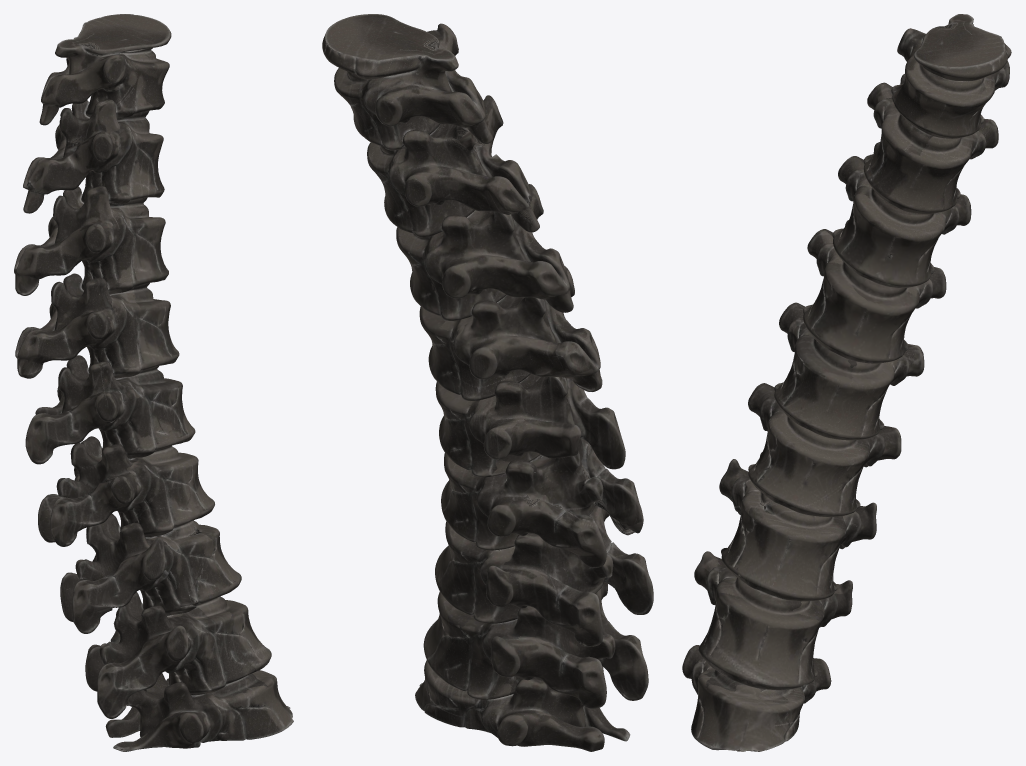
The model's file is spine-desktop.glb.
The picture shows the model from 3 angles, left to right: view 1: azimuth 30°, elevation 25°; view 2: azimuth 150°, elevation 25°; view 3: azimuth 270°, elevation 25°; orthographic projection. The views are drawn at different scales.
Visible parts, largest first — view 1: tripo_node_b2a1ff4f-8972-4df4-b4bd-6063b4841254; view 2: tripo_node_b2a1ff4f-8972-4df4-b4bd-6063b4841254; view 3: tripo_node_b2a1ff4f-8972-4df4-b4bd-6063b4841254.
Boxes of the visible parts, x1,y1,x2,y2 form: tripo_node_b2a1ff4f-8972-4df4-b4bd-6063b4841254: [14, 14, 293, 751]; tripo_node_b2a1ff4f-8972-4df4-b4bd-6063b4841254: [322, 14, 653, 751]; tripo_node_b2a1ff4f-8972-4df4-b4bd-6063b4841254: [682, 14, 1011, 751].
Size of the model in its own units: 0.3555 by 0.9823 by 0.4338.
Materials: 1 (1 with a texture image).
